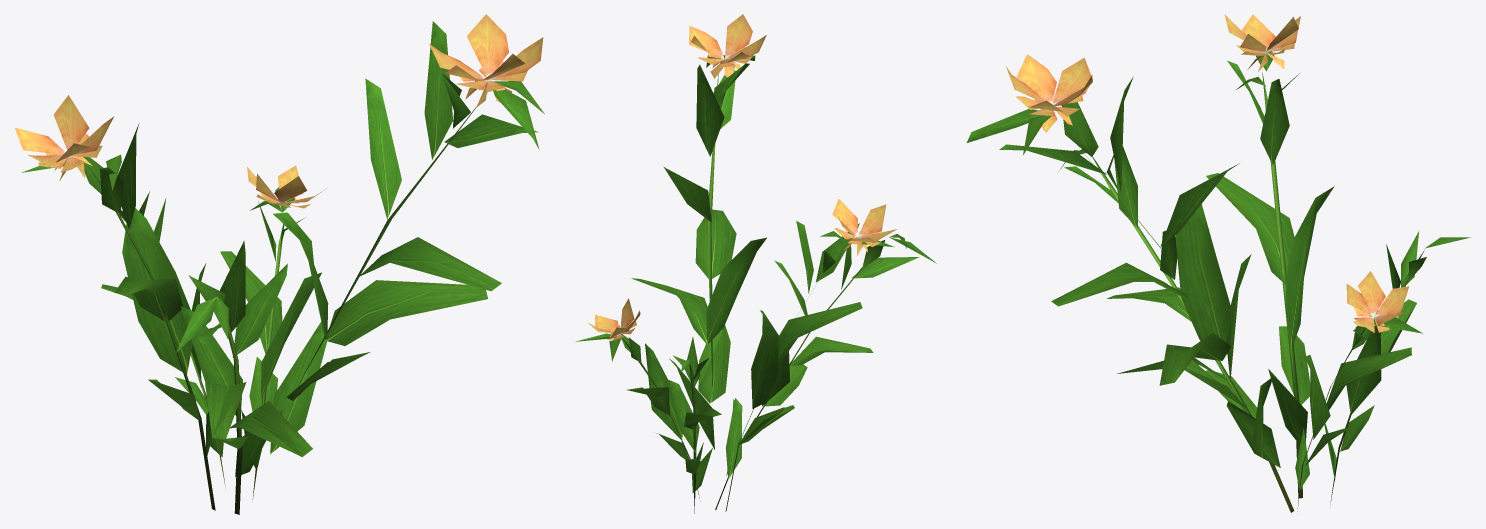
File: leafplant10_lod2.fbx
3 views of the same model, side by side, from view 1: azimuth 30°, elevation 25°; view 2: azimuth 150°, elevation 25°; view 3: azimuth 270°, elevation 25° (orthographic). The views are drawn at different scales.
Parts seen in each view (by area): view 1: Mesh Object; view 2: Mesh Object; view 3: Mesh Object.
Boxes of the visible parts, x1,y1,x2,y2 form: Mesh Object: (15,14,544,514); Mesh Object: (576,14,936,513); Mesh Object: (967,14,1470,512).
Bounding box in the file's own units: 1.19 × 1.49 × 1.36.
